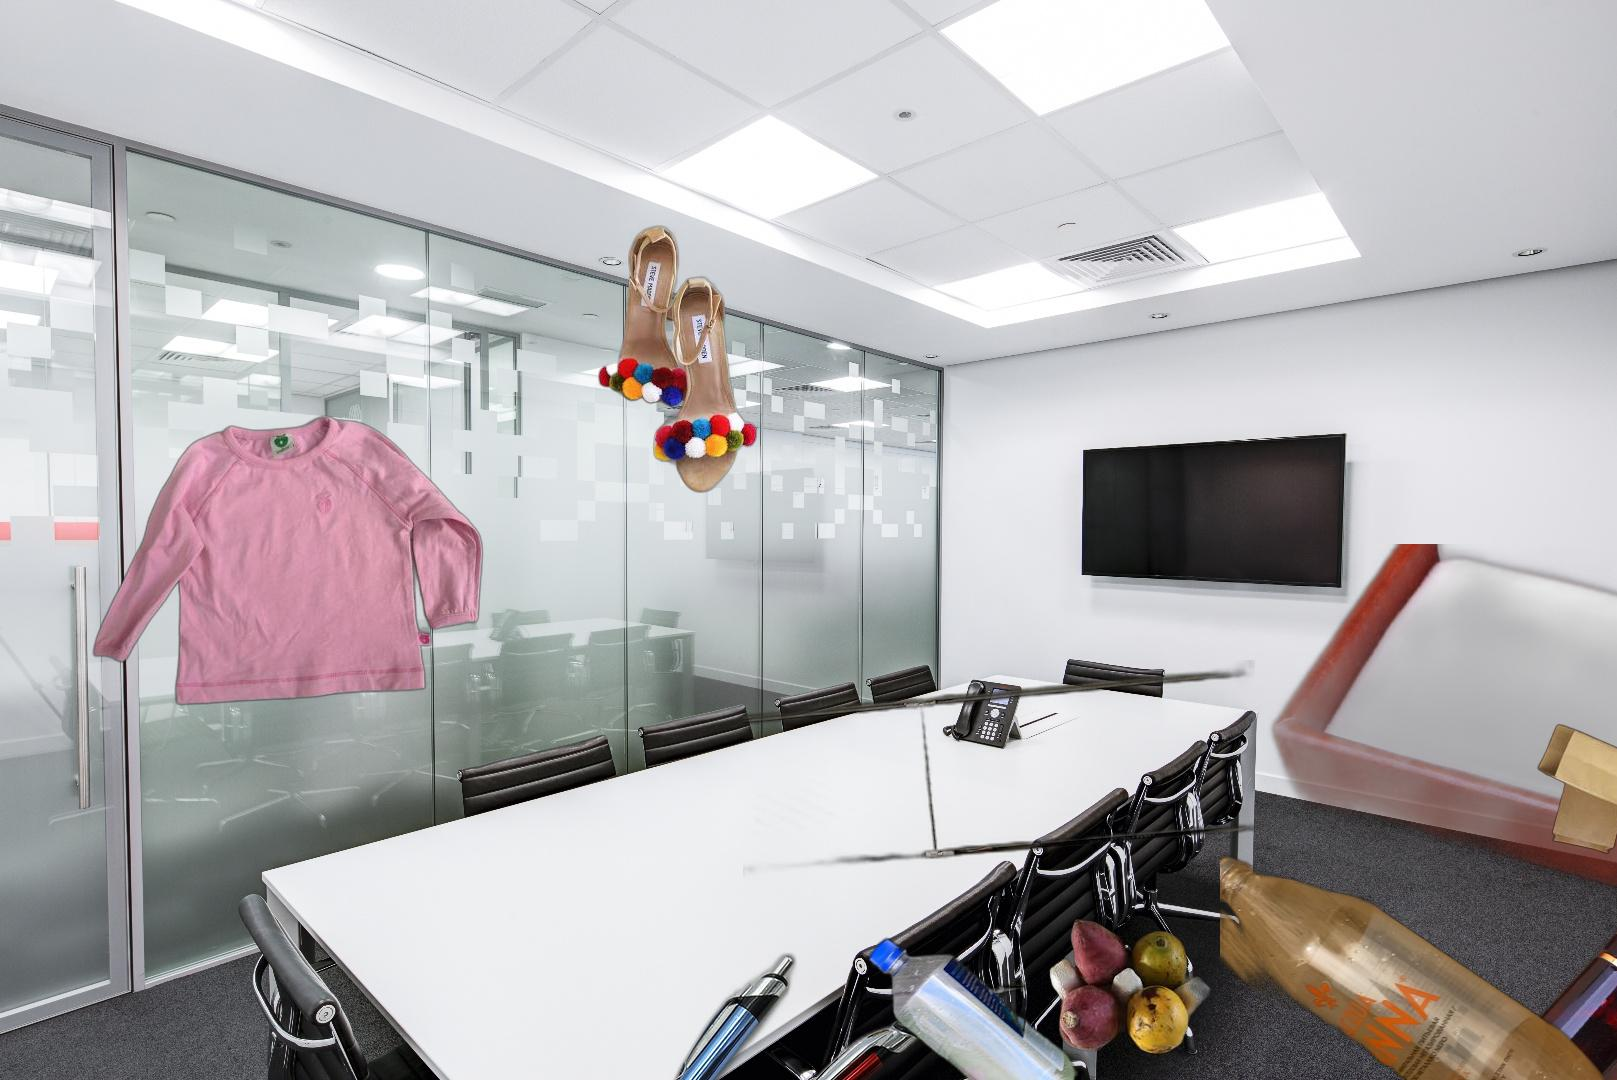clothes: (90, 413, 487, 708)
paper-bag: (1536, 723, 1617, 857)
penholder: (1107, 544, 1617, 1080), (533, 945, 1222, 1080)
plastic-bottles: (743, 661, 1256, 1080), (1221, 851, 1604, 1080)
shoes: (596, 224, 760, 494)
trashbox-cardboard: (1047, 893, 1213, 1057)
